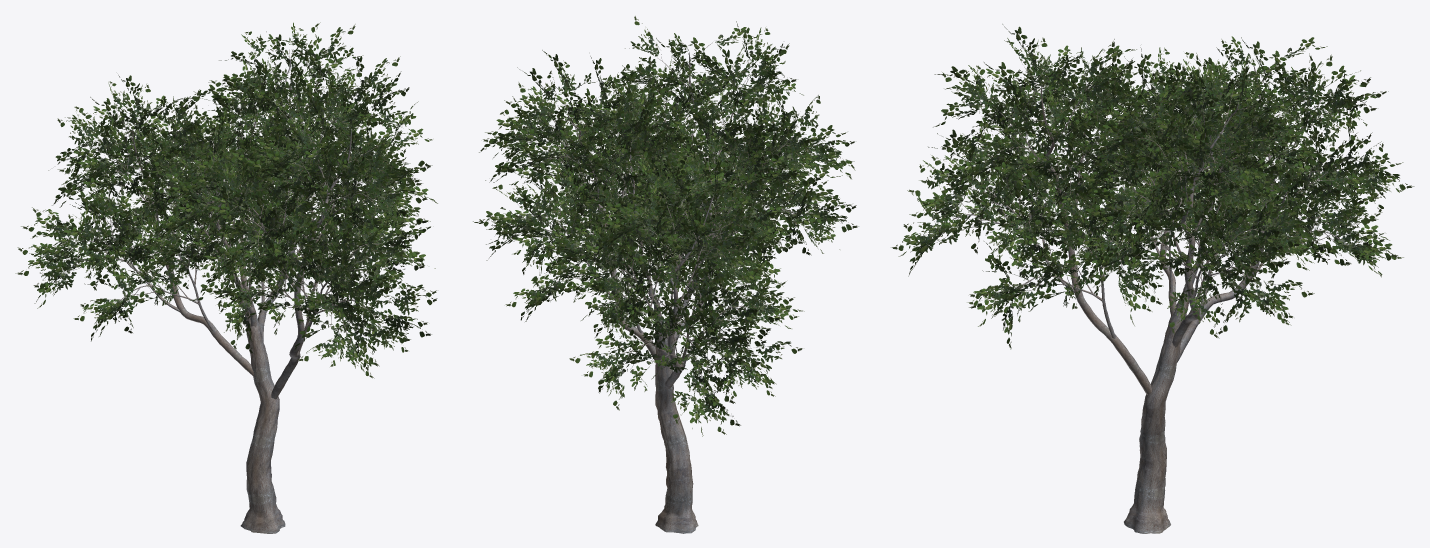
The model's file is MESH_WE17_QuercusAgrifolia_Y_LOD0.fbx.
3 views of the same model, side by side, from view 1: azimuth 30°, elevation 25°; view 2: azimuth 150°, elevation 25°; view 3: azimuth 270°, elevation 25° (orthographic). The views are drawn at different scales.
Parts seen in each view (by area): view 1: MI_LOD0_001, MI_LOD0; view 2: MI_LOD0_001, MI_LOD0; view 3: MI_LOD0_001, MI_LOD0.
Part boxes in pixels (x1,y1,x2,y2): MI_LOD0_001: (15, 22, 437, 378); MI_LOD0: (66, 49, 390, 533); MI_LOD0_001: (473, 16, 858, 436); MI_LOD0: (522, 42, 810, 533); MI_LOD0_001: (891, 24, 1414, 349); MI_LOD0: (938, 57, 1359, 533).
Size of the model in its own units: 299 by 400 by 374.
